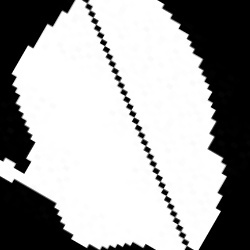spot: (1, 2, 227, 249)
